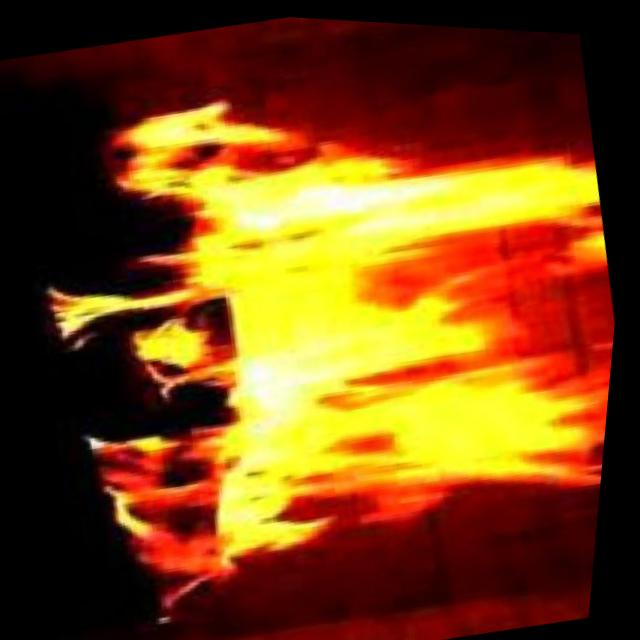Fire: (81, 35, 638, 577)
